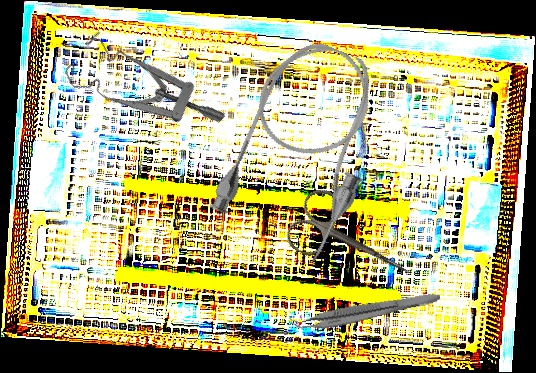Cannula: (204, 27, 405, 267)
Iris Scissors: (281, 183, 426, 304)
Speculum: (57, 8, 227, 178)
Tissue Forceps: (288, 283, 442, 337)
